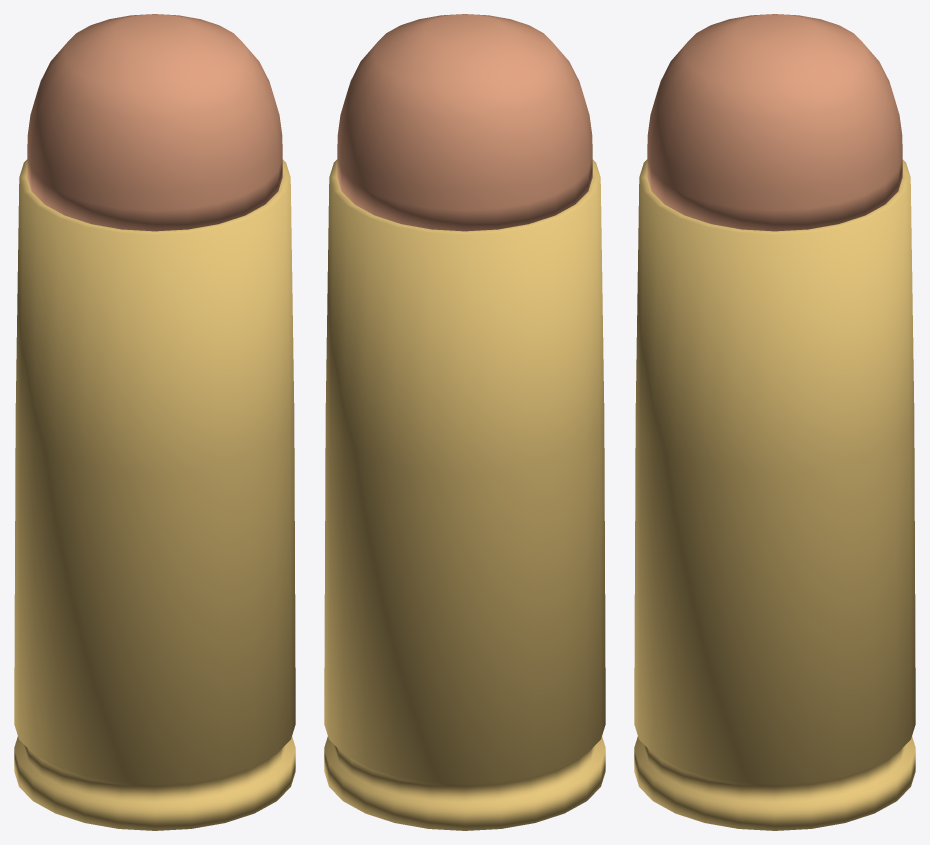
File: 50ae_std.glb
The picture shows the model from 3 angles, left to right: view 1: azimuth 30°, elevation 25°; view 2: azimuth 150°, elevation 25°; view 3: azimuth 270°, elevation 25°; orthographic projection.
Visible parts, largest first — view 1: vaina, bala; view 2: vaina, bala; view 3: vaina, bala.
Part boxes in pixels (left/top/right/bottom): vaina: left=14, top=159, right=295, bottom=830; bala: left=27, top=14, right=282, bottom=231; vaina: left=324, top=159, right=605, bottom=830; bala: left=337, top=14, right=592, bottom=231; vaina: left=634, top=159, right=915, bottom=830; bala: left=647, top=14, right=902, bottom=231.
Size of the model in its own units: 0.014 by 0.0406 by 0.014.
